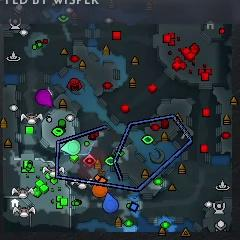p1: (102, 192, 119, 214)
p2: (60, 139, 82, 156)
p3: (34, 88, 53, 110)
p5: (92, 179, 108, 199)
